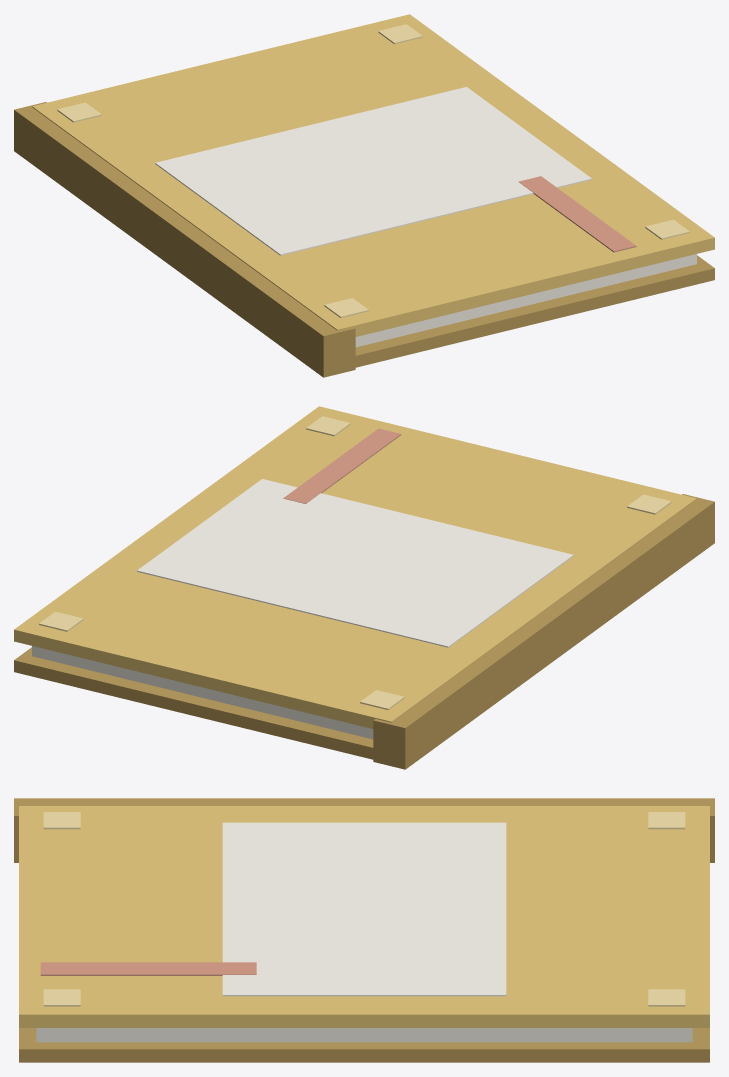
Rendered from book.gltf.
The picture shows the model from 3 angles, top to bottom: view 1: azimuth 30°, elevation 25°; view 2: azimuth 150°, elevation 25°; view 3: azimuth 270°, elevation 25°; orthographic projection. The views are drawn at different scales.
Visible parts, largest first — view 1: FrontCover, CoverTitle, Spine, BackCover, RightPages, Bookmark; view 2: FrontCover, CoverTitle, Spine, BackCover, RightPages, Bookmark; view 3: FrontCover, CoverTitle, BackCover, RightPages, Spine, Bookmark, CornerB, CornerD, CornerA, CornerC.
Part boxes in pixels (x1=…): FrontCover: x1=32, y1=14, x2=714, y2=336; CoverTitle: x1=155, y1=87, x2=591, y2=255; Spine: x1=14, y1=102, x2=355, y2=377; BackCover: x1=355, y1=255, x2=714, y2=367; RightPages: x1=355, y1=254, x2=696, y2=347; Bookmark: x1=519, y1=176, x2=636, y2=252; FrontCover: x1=14, y1=406, x2=696, y2=728; CoverTitle: x1=137, y1=479, x2=573, y2=647; Spine: x1=373, y1=494, x2=714, y2=769; BackCover: x1=14, y1=647, x2=373, y2=759; RightPages: x1=32, y1=646, x2=373, y2=739; Bookmark: x1=283, y1=428, x2=401, y2=503; FrontCover: x1=19, y1=806, x2=709, y2=1027; CoverTitle: x1=222, y1=822, x2=506, y2=996; BackCover: x1=19, y1=1028, x2=709, y2=1062; RightPages: x1=36, y1=1028, x2=692, y2=1042; Spine: x1=14, y1=798, x2=714, y2=862; Bookmark: x1=40, y1=962, x2=256, y2=975; CornerB: x1=43, y1=989, x2=80, y2=1006; CornerD: x1=648, y1=989, x2=685, y2=1006; CornerA: x1=43, y1=812, x2=80, y2=829; CornerC: x1=648, y1=812, x2=685, y2=829.
Size of the model in its own units: 4.17 by 0.446 by 5.68.
